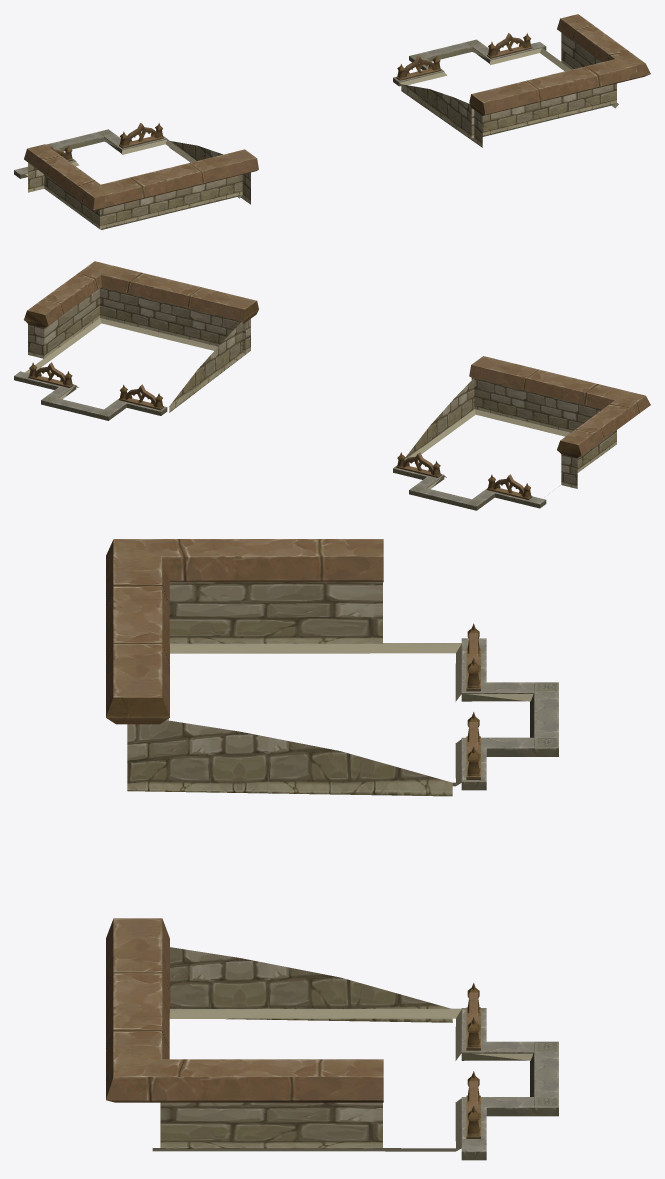
The model's file is DN_mcshuichi.FBX.
The picture shows the model from 3 angles, top to bottom: view 1: azimuth 30°, elevation 25°; view 2: azimuth 150°, elevation 25°; view 3: azimuth 270°, elevation 25°; orthographic projection. The views are drawn at different scales.
Visible parts, largest first — view 1: DN_mcshuichi; view 2: DN_mcshuichi; view 3: DN_mcshuichi.
Part boxes in pixels (bbox=[...]): DN_mcshuichi: bbox=[14, 14, 650, 229]; DN_mcshuichi: bbox=[14, 261, 650, 510]; DN_mcshuichi: bbox=[106, 539, 558, 1160].
Size of the model in its own units: 4370 by 380 by 1537.
1 material, 1 textured.
